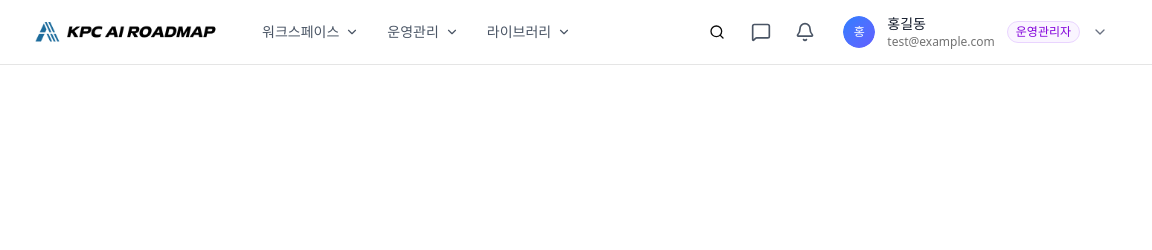
Scenario: Navigation › OPS 관리자 역할 › 운영관리 드롭다운에 사용자 관리, 쿼터 관리, 감사로그가 표시된다
The image size is (1152, 250).
Click the button "운영관리". click: (423,32)
box: x1=375 y1=14 x2=471 y2=50
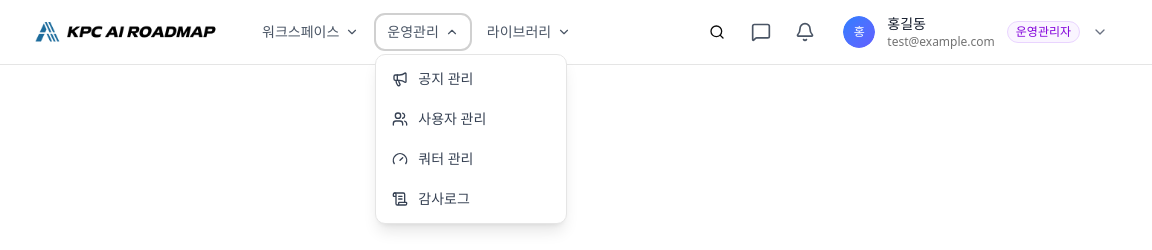
expect the link "사용자 관리" is shown: met, box x1=392 y1=109 x2=486 y2=128
expect the link "쿼터 관리" is shown: met, box x1=392 y1=149 x2=474 y2=168
expect the link "감사로그" is shown: met, box x1=392 y1=189 x2=470 y2=208
